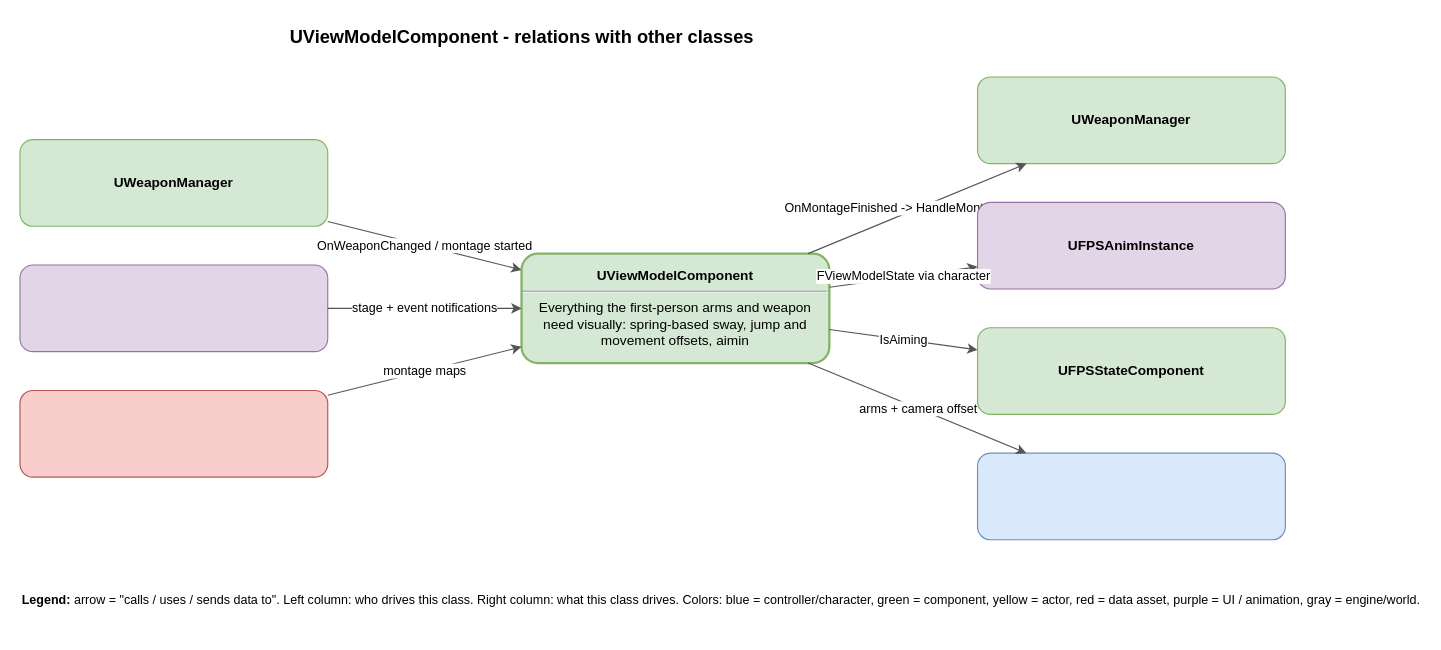
The diagram is 1441 pixels wide and 650 high, and some of its shapes have lost their labels. The shapes that lost their labels are listed below. From the top down, each one's box as (x1, y1, x2, y2) in pixels, then its label:
(19, 264, 328, 352): UAnimNotify_* (5 classes)
(19, 389, 328, 477): UWeaponData
(976, 452, 1285, 540): AFPSCharacter
